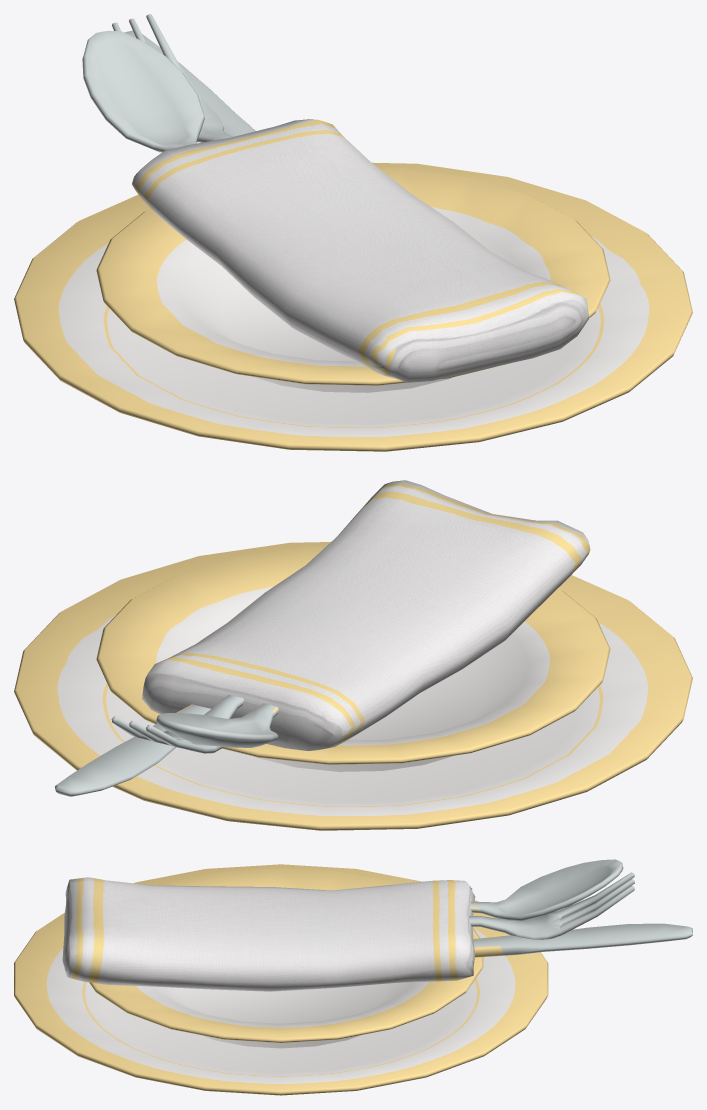
File: TableWare01_4.FBX
3 views of the same model, one above another, from view 1: azimuth 30°, elevation 25°; view 2: azimuth 150°, elevation 25°; view 3: azimuth 270°, elevation 25° (orthographic). The views are drawn at different scales.
Parts seen in each view (by area): view 1: TableWare01_4; view 2: TableWare01_4; view 3: TableWare01_4.
Part boxes in pixels (x1,y1,x2,y2): TableWare01_4: (14, 14, 692, 451); TableWare01_4: (14, 480, 692, 830); TableWare01_4: (14, 859, 692, 1095).
Size of what is drawn, in the model's own units: 0.2896 by 0.0768 by 0.3644.
